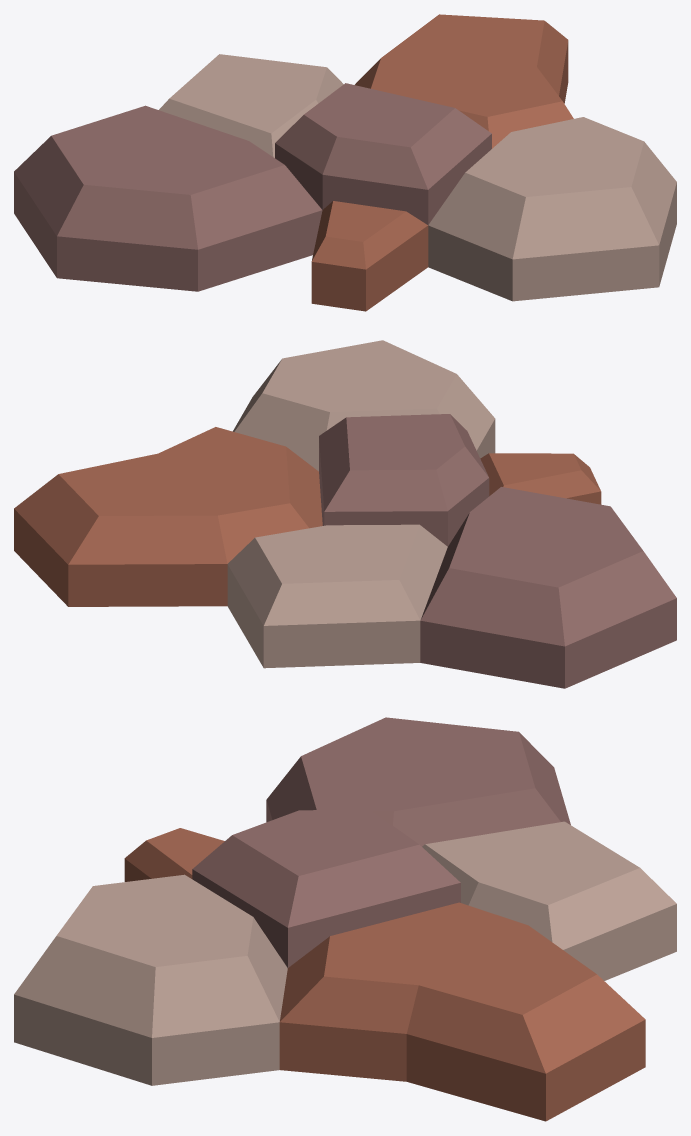
File: rock-type4-02-orange.glb
The picture shows the model from 3 angles, top to bottom: view 1: azimuth 30°, elevation 25°; view 2: azimuth 150°, elevation 25°; view 3: azimuth 270°, elevation 25°; orthographic projection. The views are drawn at different scales.
Parts seen in each view (by area): view 1: Rock_Type4_02_mesh; view 2: Rock_Type4_02_mesh; view 3: Rock_Type4_02_mesh.
Boxes of the visible parts, x1,y1,x2,y2 form: Rock_Type4_02_mesh: [14, 14, 676, 311]; Rock_Type4_02_mesh: [14, 340, 676, 688]; Rock_Type4_02_mesh: [14, 717, 676, 1121].
Size of the model in its own units: 3.03 by 0.53 by 2.61.
1 material, 1 textured.
